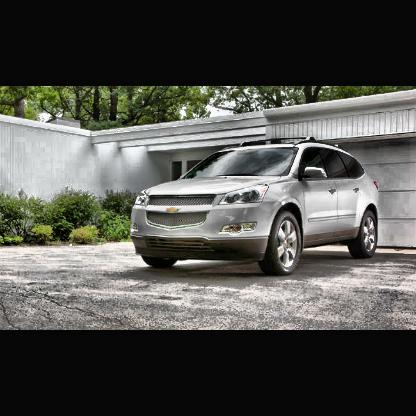Chevrolet Traverse SUV 2012: (133, 136, 382, 275)
